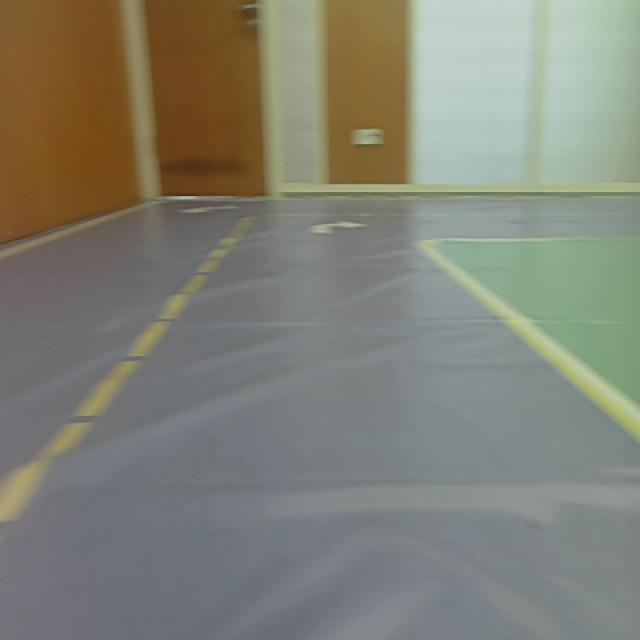left_lane: (0, 217, 249, 545)
right_lane: (418, 240, 640, 440)
